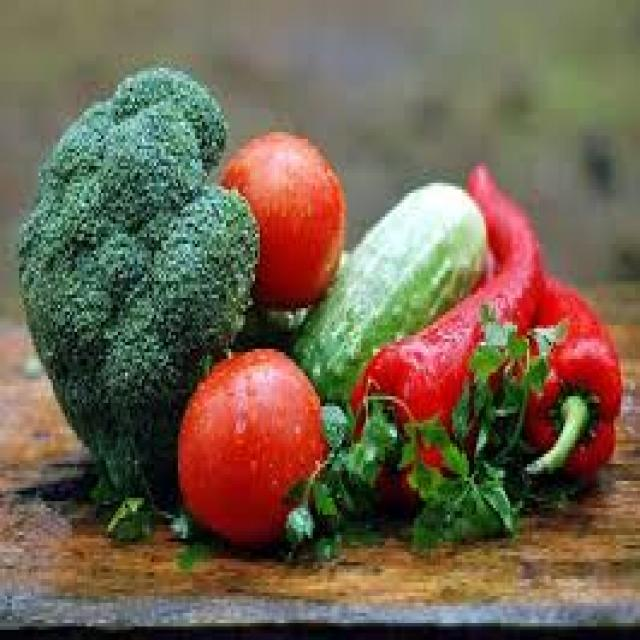organic waste: (17, 64, 257, 502), (286, 298, 558, 549), (349, 159, 544, 501), (284, 176, 486, 423), (474, 244, 618, 484), (171, 342, 322, 549), (219, 129, 342, 298), (94, 477, 142, 542)
